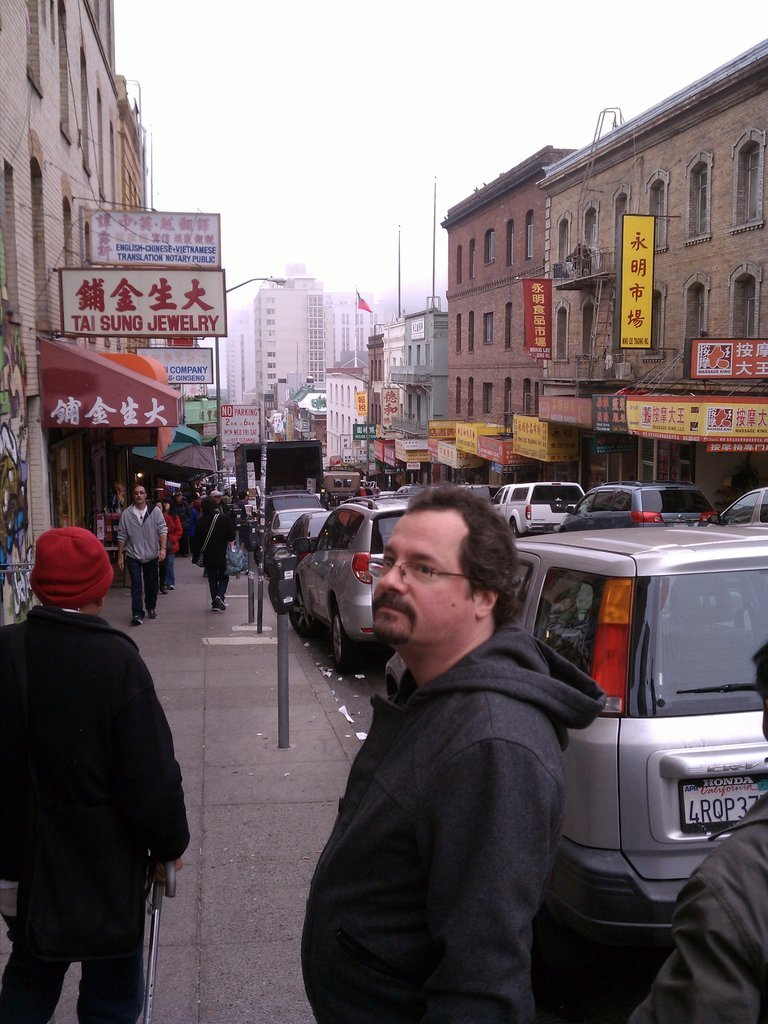Footwear: (212, 594, 226, 610), (130, 615, 144, 625), (144, 610, 157, 617), (210, 601, 217, 613)
